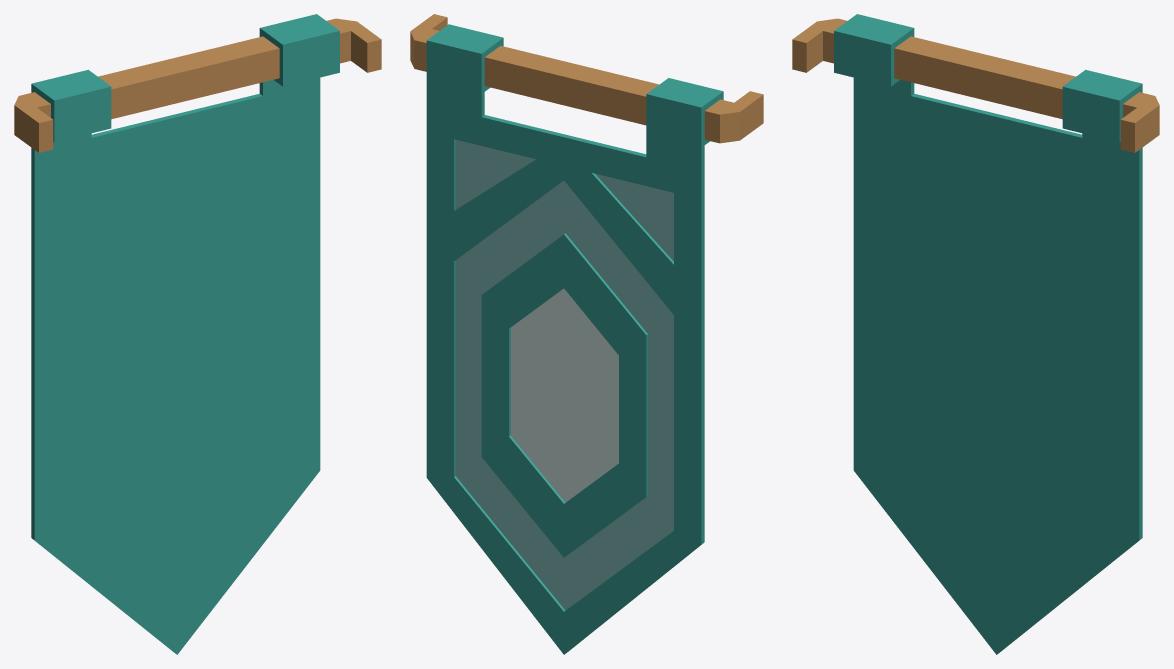
File: Prop_Flag_1.fbx
3 views of the same model, side by side, from view 1: azimuth 30°, elevation 25°; view 2: azimuth 150°, elevation 25°; view 3: azimuth 330°, elevation 25° (orthographic). The views are drawn at different scales.
Parts seen in each view (by area): view 1: object2, object1; view 2: object2, object1; view 3: object2, object1.
Part boxes in pixels (x1,y1,x2,y2): object2: (31, 14, 339, 654); object1: (14, 18, 381, 152); object2: (426, 24, 723, 654); object1: (410, 14, 763, 143); object2: (834, 14, 1142, 654); object1: (792, 18, 1159, 152).
Size of the model in its own units: 0.54 by 0.909 by 0.099.
